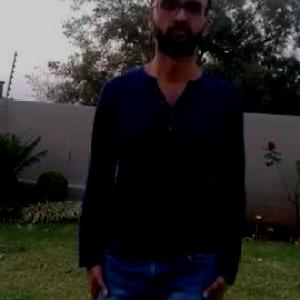follow: (74, 0, 244, 299)
